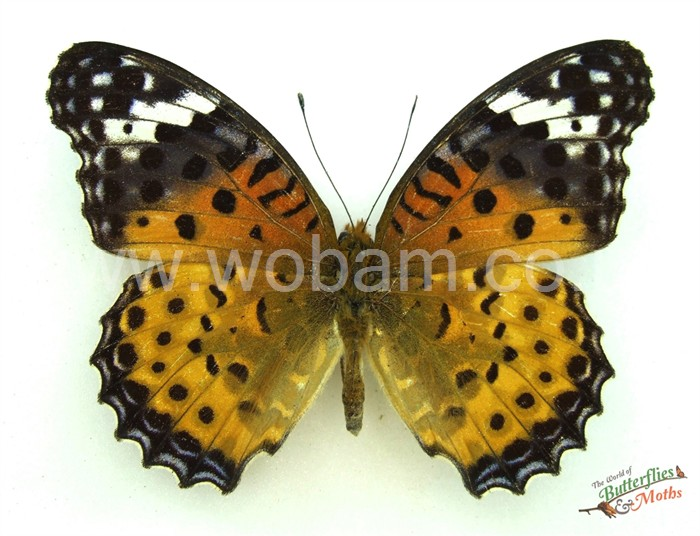Argyreus hyperbius: (42, 32, 652, 496)
butterfly: (44, 34, 654, 498)
